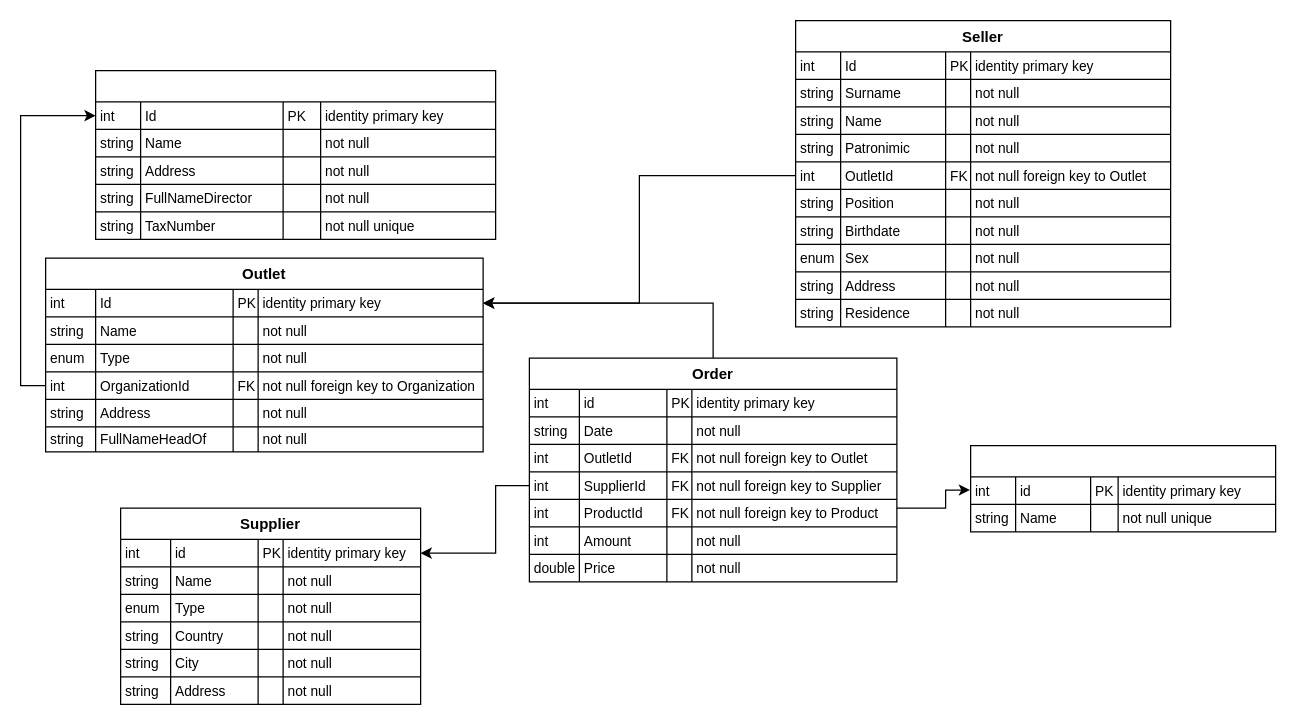
The diagram is 1296 pixels wide and 725 high, and some of its shapes have lost their labels. The box of each missing label's shape, as (x1, y1, x2, y2) in pixels:
Organization: (94, 69, 496, 239)
Product: (969, 444, 1276, 532)
